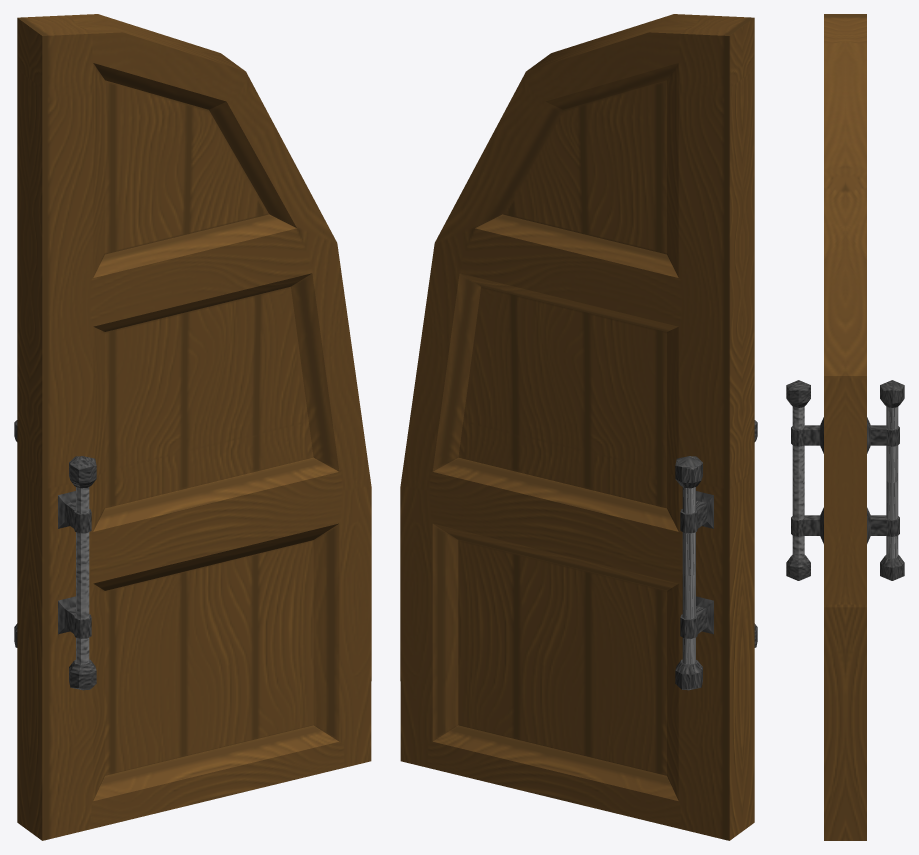
Rendered from MainDoor_door2.fbx.
3 views of the same model, side by side, from view 1: azimuth 30°, elevation 25°; view 2: azimuth 150°, elevation 25°; view 3: azimuth 270°, elevation 25° (orthographic). The views are drawn at different scales.
Visible parts, largest first — view 1: door1; view 2: door1; view 3: door1.
Part boxes in pixels (x1,y1,x2,y2): door1: (14,14,371,840); door1: (400,14,757,840); door1: (786,14,904,840).
Bounding box in the file's own units: 2.34 × 5.46 × 0.8489.
Materials: 1 (1 with a texture image).
